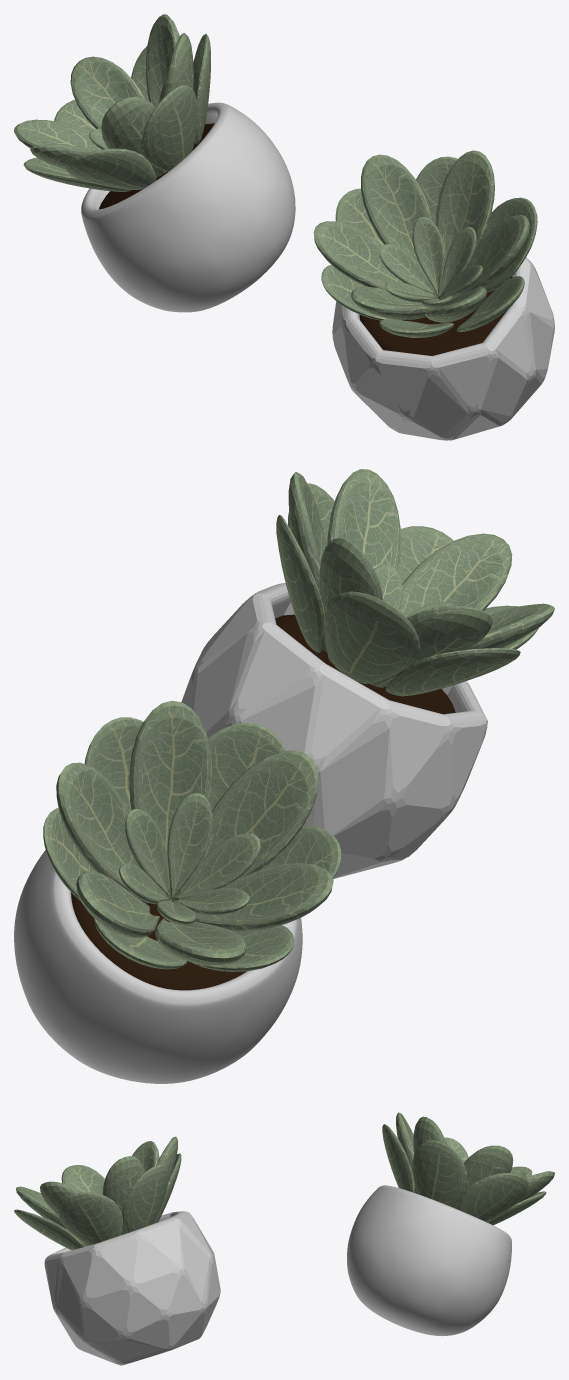
File: twin pots.obj
The picture shows the model from 3 angles, top to bottom: view 1: azimuth 30°, elevation 25°; view 2: azimuth 150°, elevation 25°; view 3: azimuth 270°, elevation 25°; orthographic projection. The views are drawn at different scales.
Visible parts, largest first — view 1: flowerpot2, flowerpot1; view 2: flowerpot1, flowerpot2; view 3: flowerpot2, flowerpot1.
Boxes of the visible parts, box(x1,y1,x2,y2) form: flowerpot2: box(313, 150, 554, 440); flowerpot1: box(14, 14, 295, 312); flowerpot1: box(14, 700, 341, 1083); flowerpot2: box(181, 469, 554, 878); flowerpot2: box(14, 1136, 220, 1365); flowerpot1: box(347, 1112, 554, 1336).
Size of the model in its own units: 3.05 by 2.67 by 6.1.
3 materials, 1 textured.
